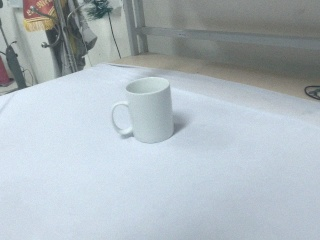cup: (110, 76, 176, 144)
